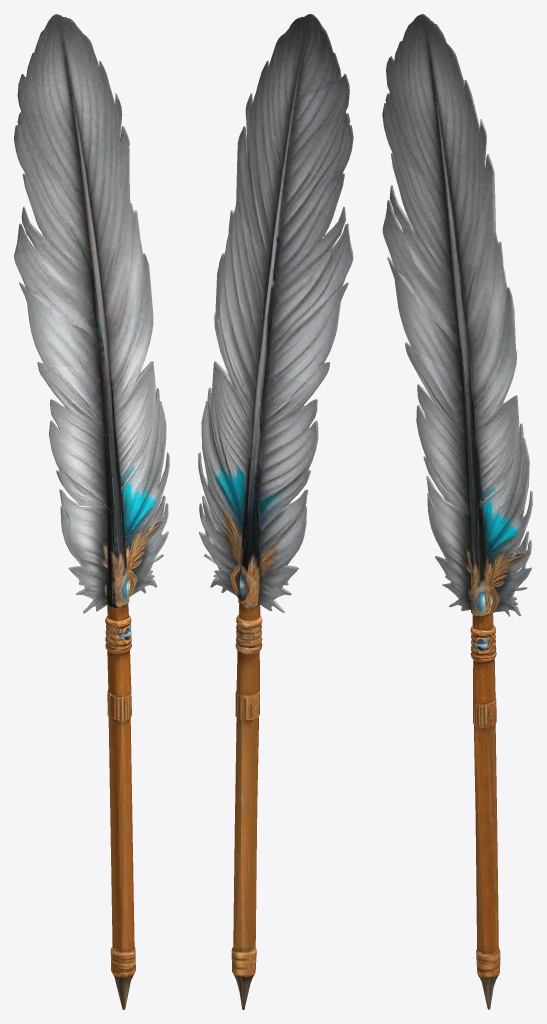
The model's file is penna.glb.
3 renders of one model, left to right at view 1: azimuth 30°, elevation 25°; view 2: azimuth 150°, elevation 25°; view 3: azimuth 330°, elevation 25°, orthographic. The views are drawn at different scales.
Bounding box in the file's own units: 0.3056 × 1.9 × 0.0462.
1 material, 1 textured.
